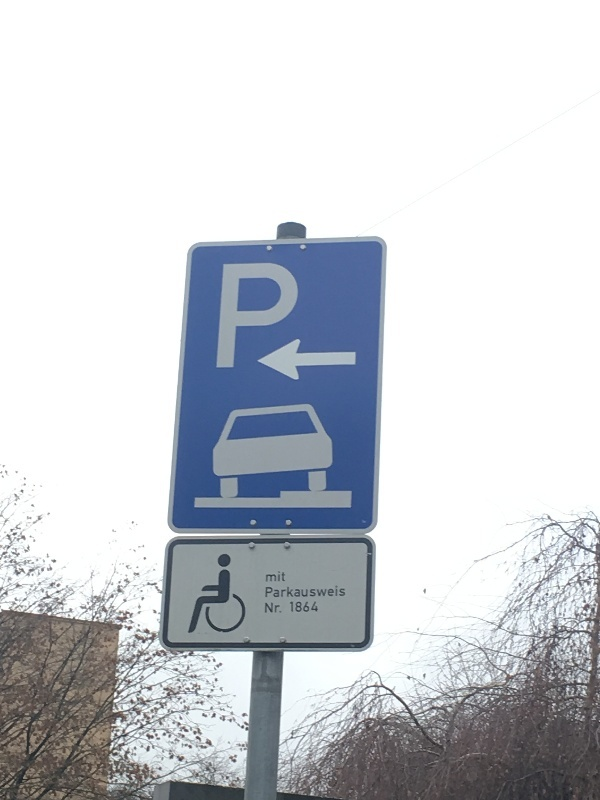text: (225, 263, 240, 369), (241, 263, 256, 369), (257, 263, 272, 369), (273, 263, 288, 369), (289, 263, 300, 369), (273, 585, 288, 598), (289, 585, 304, 598), (305, 585, 320, 598), (321, 585, 336, 598), (290, 601, 304, 612), (305, 601, 319, 612), (273, 572, 286, 582), (223, 263, 224, 369), (337, 585, 345, 598), (273, 603, 282, 613), (266, 585, 272, 598), (265, 603, 272, 613), (266, 572, 272, 582)
